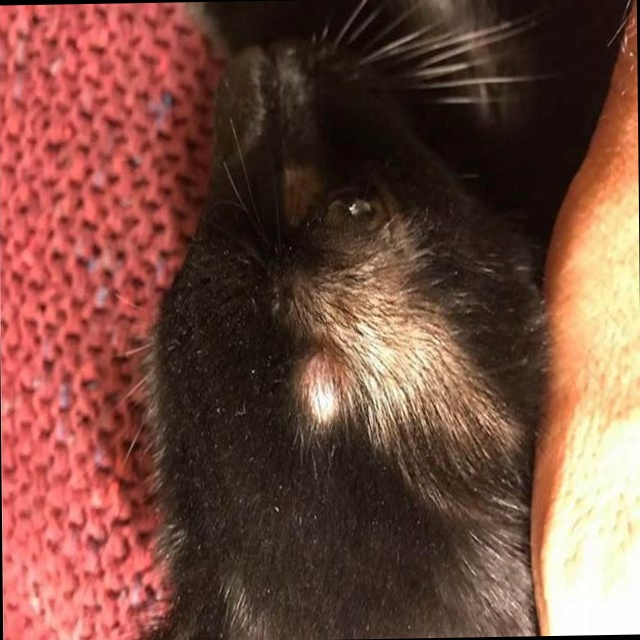lump_and_bump: (299, 370, 346, 416)
